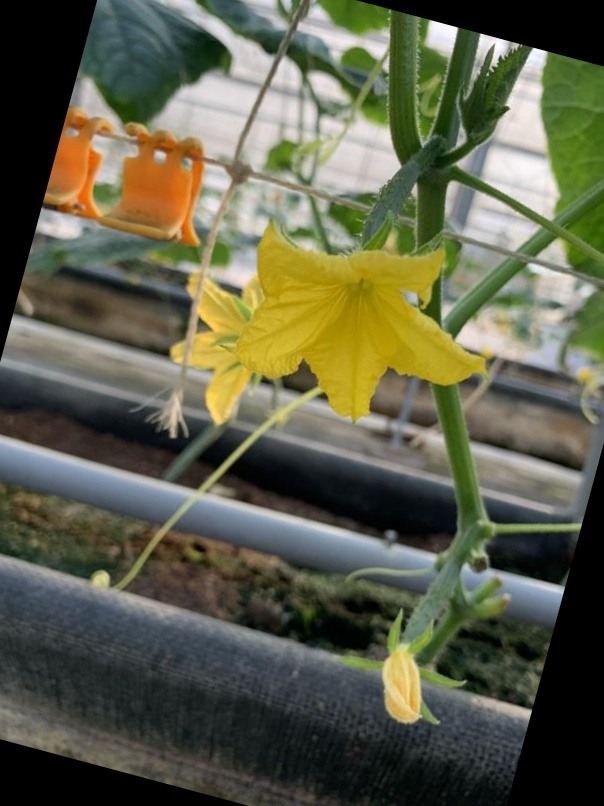flowering: (239, 154, 531, 425)
